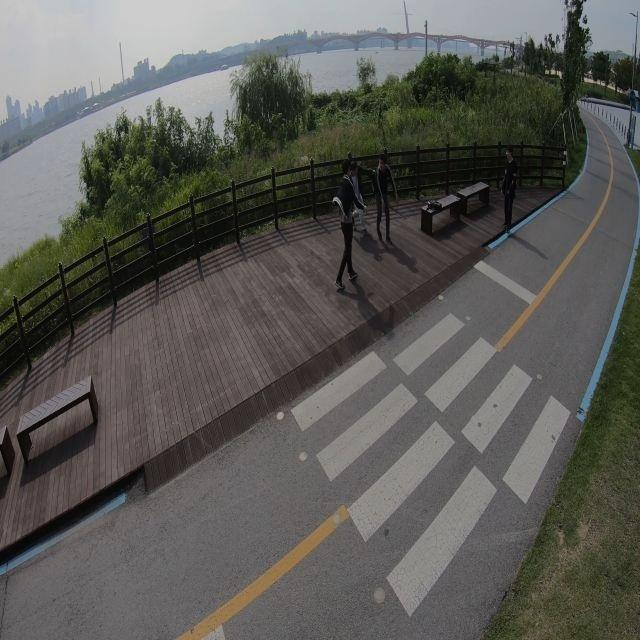non-fight: (332, 167, 365, 293), (371, 154, 395, 246), (497, 145, 520, 232)
